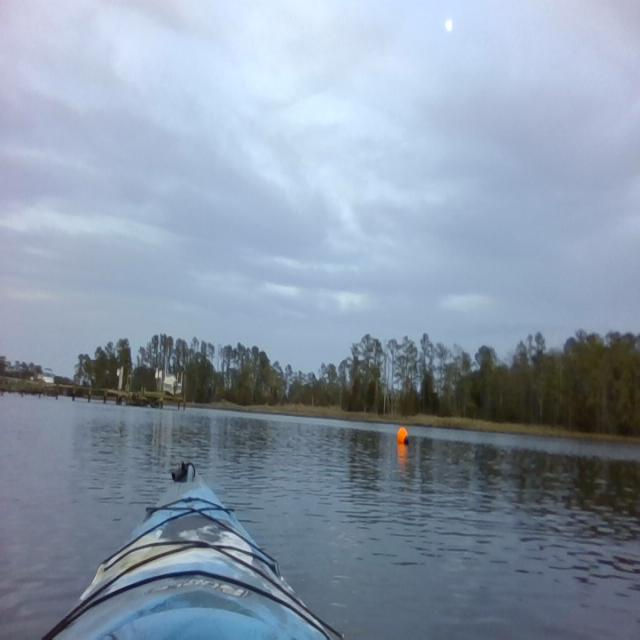Buoy: (396, 426, 411, 448)
